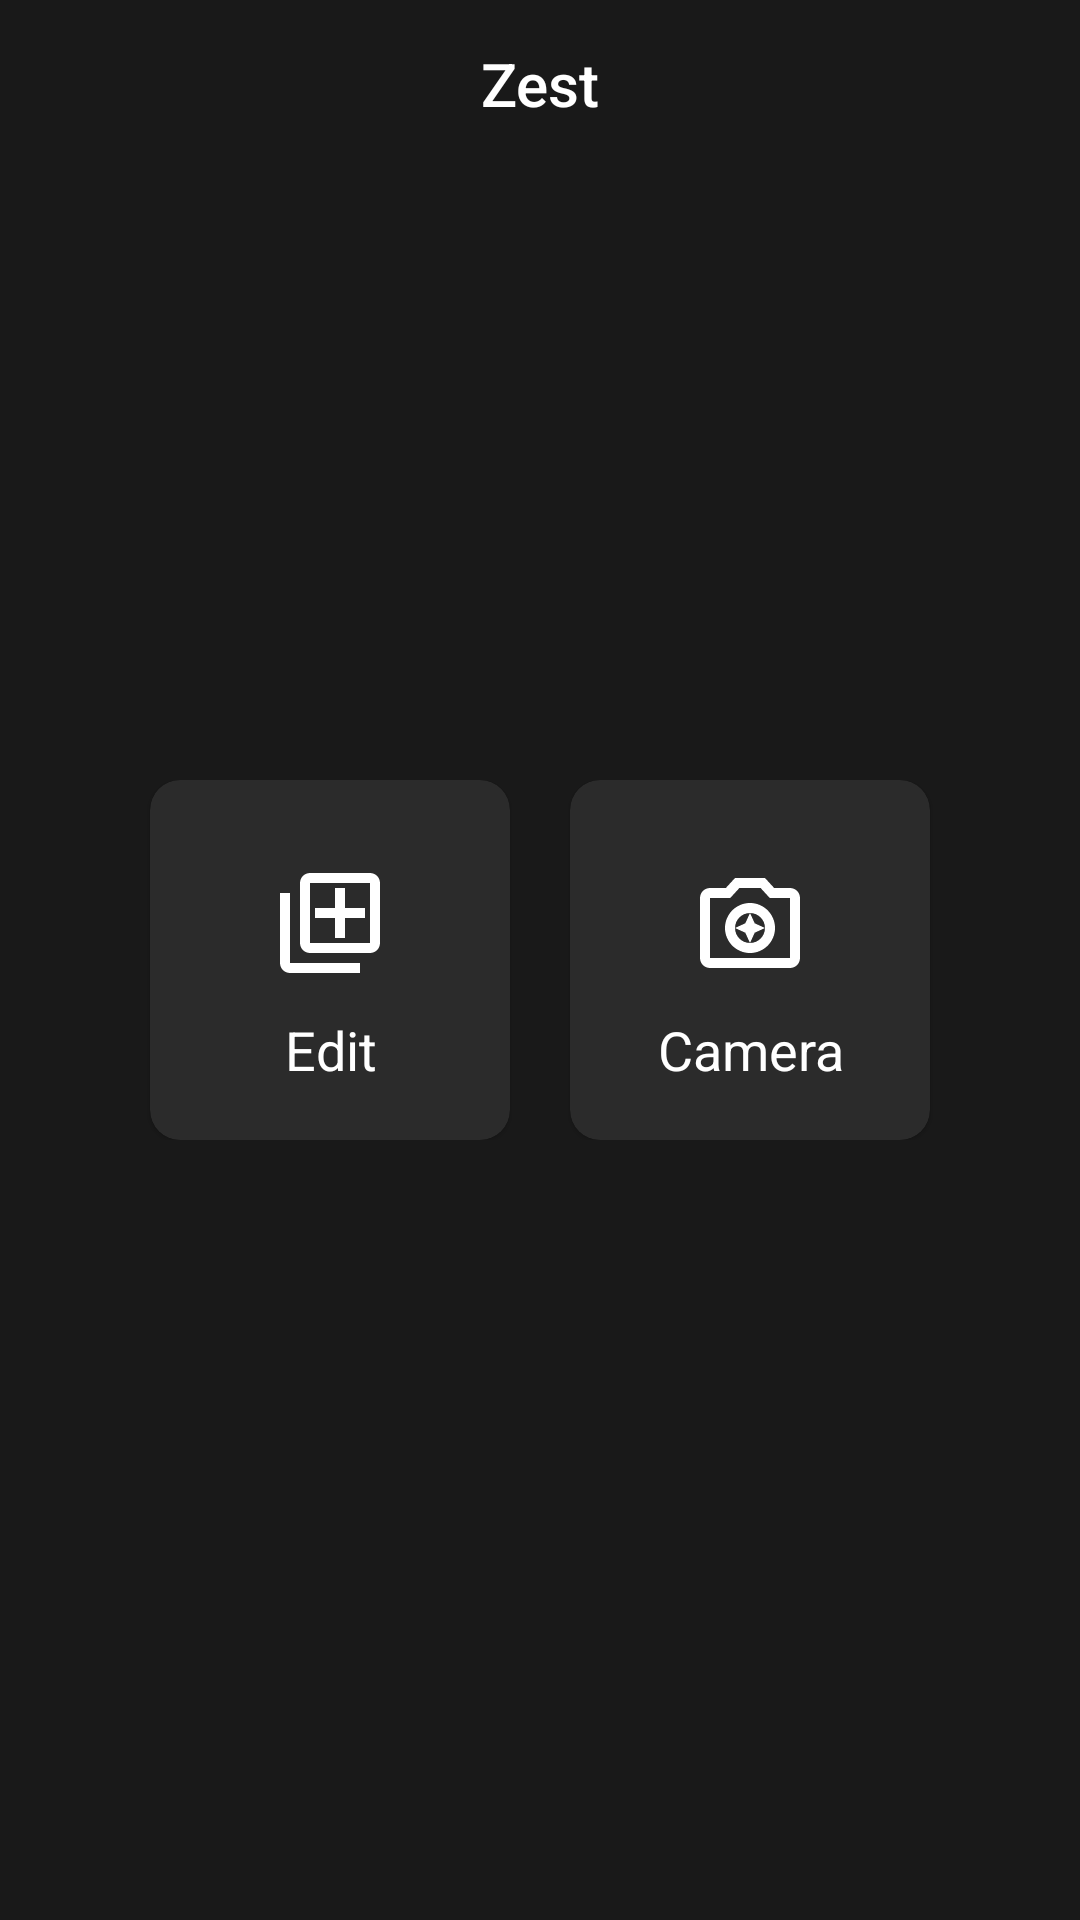

Icon bounding boxes for this 1080px x 1920px phone screenshot, format (x1, y1, x2, y2):
add to photos: (280, 873, 380, 973)
